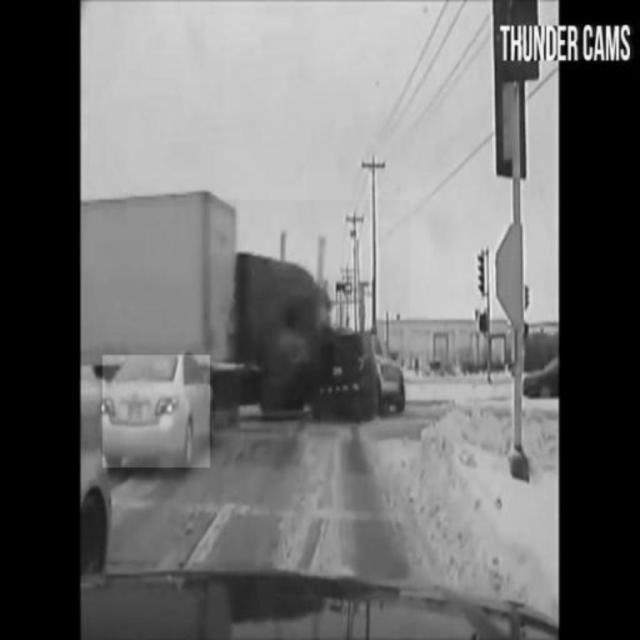accident: (76, 201, 410, 422)
vehicle: (103, 355, 211, 467)
